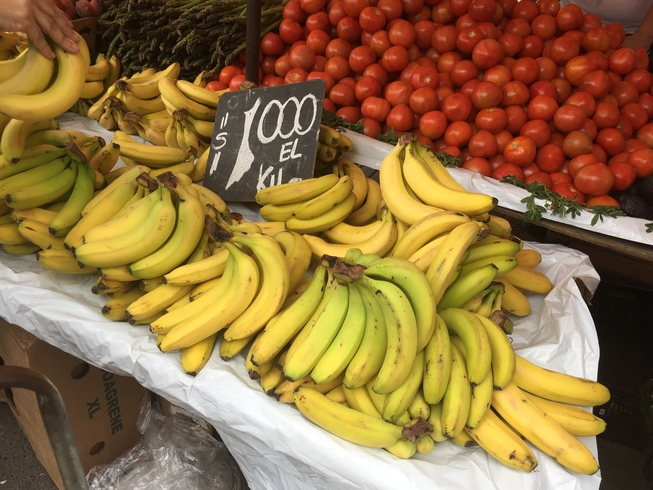precio: (202, 73, 334, 212)
